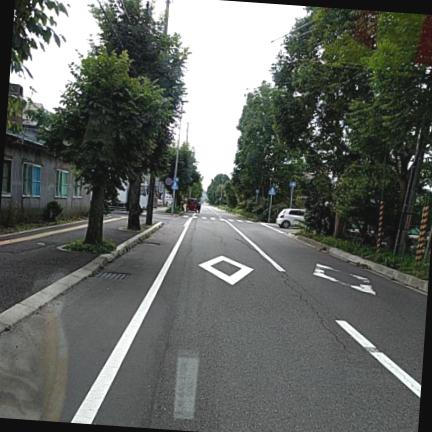Road: (0, 207, 426, 431)
